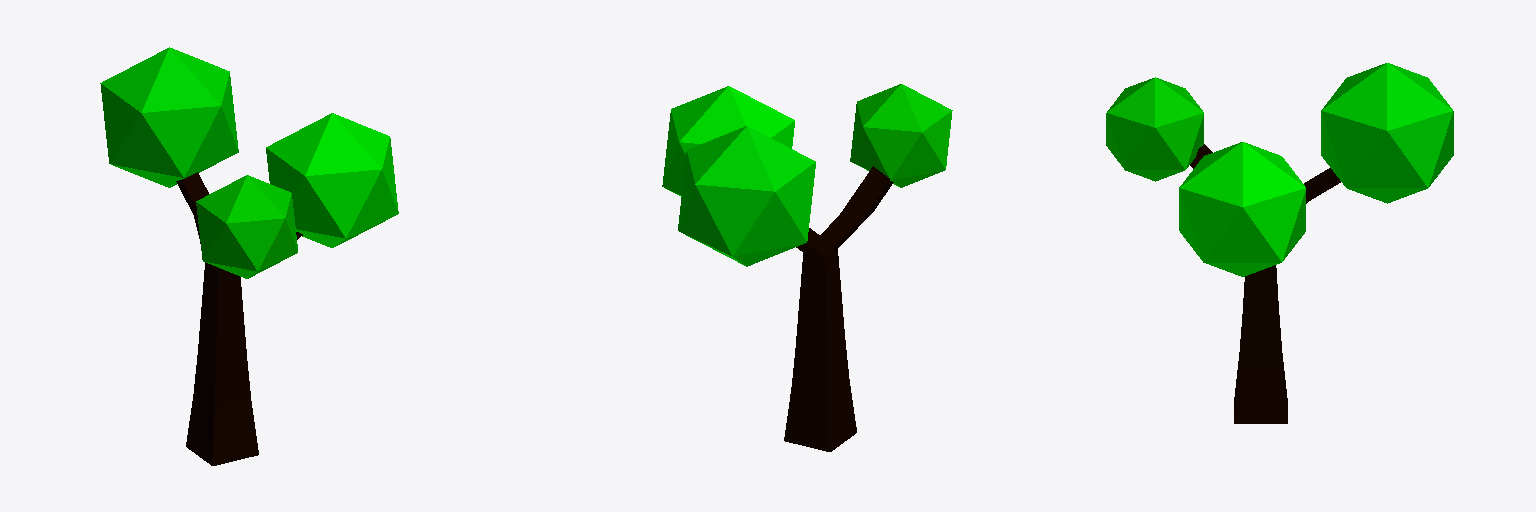
File: tree.obj
The picture shows the model from 3 angles: view 1: azimuth 30°, elevation 25°; view 2: azimuth 150°, elevation 25°; view 3: azimuth 270°, elevation 25°; orthographic projection.
Parts seen in each view (by area): view 1: Cube.001_Cube.002; view 2: Cube.001_Cube.002; view 3: Cube.001_Cube.002.
Boxes of the visible parts, <box> form: Cube.001_Cube.002: <box>100,47,398,465</box>; Cube.001_Cube.002: <box>662,84,952,451</box>; Cube.001_Cube.002: <box>1106,63,1453,423</box>.
Size of the model in its own units: 8.1 by 11.87 by 10.52.